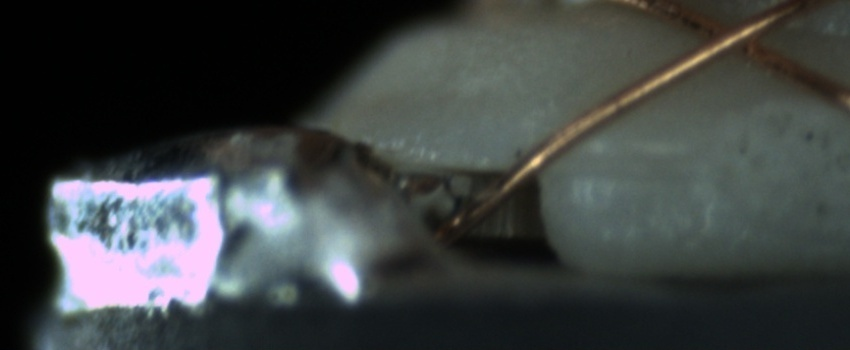CL: (681, 2, 790, 71)
DL: (564, 136, 703, 200)
